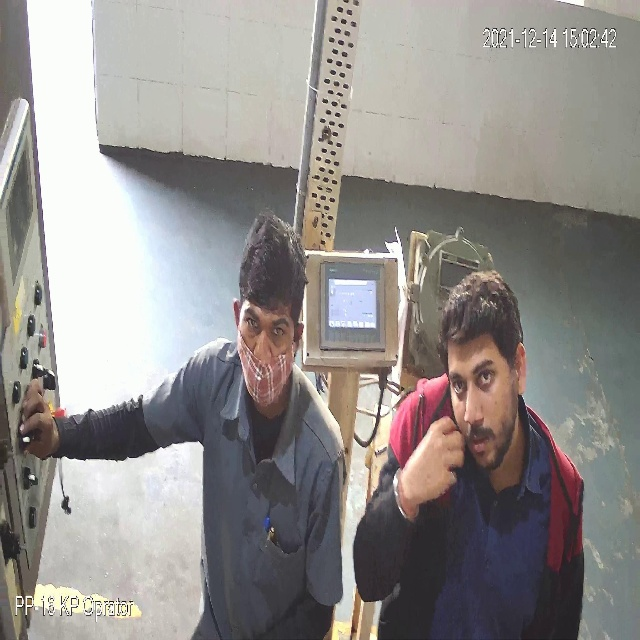Sin_gafas: (449, 358, 506, 400), (238, 307, 292, 344)
Sin_mascara: (452, 400, 517, 471)
